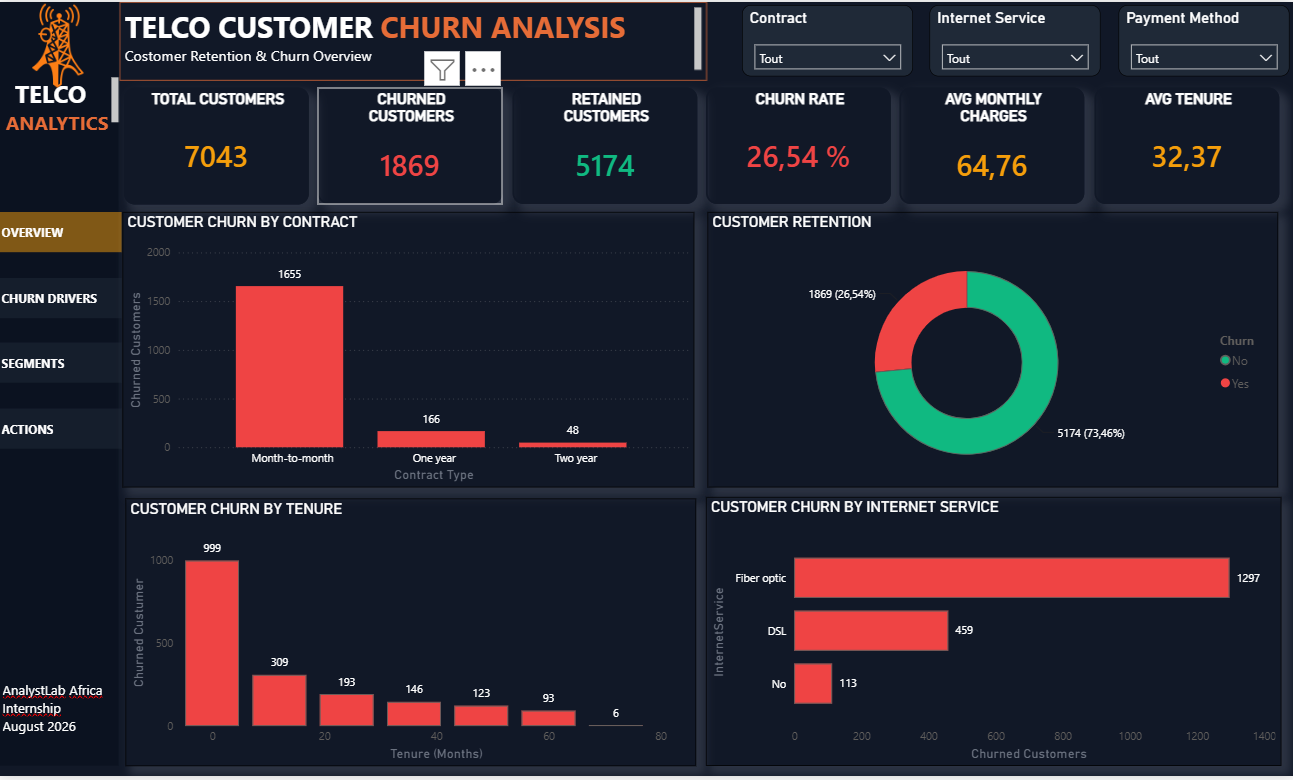

The page's visual inventory and layout, read from the dashboard file:
{"tool":"powerbi","page":{"name":" Overview","canvas":[1440,860],"ordinal":0},"visuals":[{"type":"shape","box":[0,0,134,848.6],"z":0},{"type":"textbox","box":[135.7,0,652.7,87.6],"z":1000},{"type":"cardVisual","title":"TOTAL CUSTOMERS","fields":{"Data":["WA_Fn-UseC_-Telco-Customer-Churn.Total Customers"]},"box":[139.7,95.4,205,130],"z":2000},{"type":"cardVisual","title":"CHURNED CUSTOMERS","fields":{"Data":["WA_Fn-UseC_-Telco-Customer-Churn.Churned Customers"]},"box":[355.3,95.4,205,129.5],"z":3000},{"type":"cardVisual","title":"RETAINED CUSTOMERS","fields":{"Data":["WA_Fn-UseC_-Telco-Customer-Churn.Retained Customers"]},"box":[571,95.4,205,129.5],"z":4000},{"type":"cardVisual","title":"CHURN RATE","fields":{"Data":["WA_Fn-UseC_-Telco-Customer-Churn.Churn Rate"]},"box":[786.7,95.4,205,129.5],"z":5000},{"type":"cardVisual","title":"AVG MONTHLY CHARGES","fields":{"Data":["WA_Fn-UseC_-Telco-Customer-Churn.AVG Monthly Charges"]},"box":[1002.3,95.4,205,129.5],"z":6000},{"type":"cardVisual","title":"AVG TENURE","fields":{"Data":["WA_Fn-UseC_-Telco-Customer-Churn.AVG Tenure"]},"box":[1218,95.4,205,129.5],"z":7000},{"type":"clusteredColumnChart","title":"CUSTOMER CHURN BY CONTRACT","fields":{"Category":["WA_Fn-UseC_-Telco-Customer-Churn.Contract"],"Y":["WA_Fn-UseC_-Telco-Customer-Churn.Churned Customers"]},"box":[139.1,233.6,635.6,305.8],"z":8000},{"type":"donutChart","title":"CUSTOMER RETENTION ","fields":{"Category":["WA_Fn-UseC_-Telco-Customer-Churn.Churn"],"Y":["WA_Fn-UseC_-Telco-Customer-Churn.Total Customers"]},"box":[788.4,233.6,633.8,305.8],"z":9000},{"type":"clusteredColumnChart","title":"CUSTOMER CHURN BY TENURE","fields":{"Category":["WA_Fn-UseC_-Telco-Customer-Churn.tenure (compartiments)"],"Y":["WA_Fn-UseC_-Telco-Customer-Churn.Churned Customers"]},"box":[140.9,551.4,633.8,297.2],"z":10000},{"type":"clusteredBarChart","title":"CUSTOMER CHURN BY INTERNET SERVICE","fields":{"Category":["WA_Fn-UseC_-Telco-Customer-Churn.InternetService"],"Y":["WA_Fn-UseC_-Telco-Customer-Churn.Churned Customers"]},"box":[786.7,549.7,639,298.9],"z":11000},{"type":"textbox","box":[0,79,139.1,80.7],"z":12000},{"type":"actionButton","title":"OVERVIEW","box":[0,233.6,137.4,44.7],"z":13000},{"type":"actionButton","title":"OVERVIEW","box":[0,306.3,137.4,44.7],"z":14000},{"type":"actionButton","title":"OVERVIEW","box":[0,379,137.4,44.7],"z":15000},{"type":"actionButton","title":"OVERVIEW","box":[0,451.8,137.4,44.7],"z":16000},{"type":"slicer","title":"Contract","fields":{"Values":["WA_Fn-UseC_-Telco-Customer-Churn.Contract"]},"box":[826.2,3.4,190,79],"z":17000},{"type":"slicer","title":"Internet Service","fields":{"Values":["WA_Fn-UseC_-Telco-Customer-Churn.InternetService"]},"box":[1035.8,3.4,190,79],"z":18000},{"type":"slicer","title":"Payment  Method","fields":{"Values":["WA_Fn-UseC_-Telco-Customer-Churn.PaymentMethod"]},"box":[1245.4,3.4,190,79],"z":19000},{"type":"image","box":[0,0,134,96.2],"z":20000},{"type":"textbox","box":[0,748.9,140.9,77.3],"z":20001}]}

Visuals, with their boxes in screenshot pixels (x1, y1, x2, y2), scaled from the page's 1440x860 canvas onto the 1293x780 screenshot:
shape: l=0, t=0, r=120, b=770
textbox: l=122, t=0, r=708, b=79
"TOTAL CUSTOMERS" cardVisual: l=125, t=87, r=310, b=204
"CHURNED CUSTOMERS" cardVisual: l=319, t=87, r=503, b=204
"RETAINED CUSTOMERS" cardVisual: l=513, t=87, r=697, b=204
"CHURN RATE" cardVisual: l=706, t=87, r=890, b=204
"AVG MONTHLY CHARGES" cardVisual: l=900, t=87, r=1084, b=204
"AVG TENURE" cardVisual: l=1094, t=87, r=1278, b=204
"CUSTOMER CHURN BY CONTRACT" clusteredColumnChart: l=125, t=212, r=696, b=489
"CUSTOMER RETENTION " donutChart: l=708, t=212, r=1277, b=489
"CUSTOMER CHURN BY TENURE" clusteredColumnChart: l=127, t=500, r=696, b=770
"CUSTOMER CHURN BY INTERNET SERVICE" clusteredBarChart: l=706, t=499, r=1280, b=770
textbox: l=0, t=72, r=125, b=145
"OVERVIEW" actionButton: l=0, t=212, r=123, b=252
"OVERVIEW" actionButton: l=0, t=278, r=123, b=318
"OVERVIEW" actionButton: l=0, t=344, r=123, b=384
"OVERVIEW" actionButton: l=0, t=410, r=123, b=450
"Contract" slicer: l=742, t=3, r=912, b=75
"Internet Service" slicer: l=930, t=3, r=1101, b=75
"Payment  Method" slicer: l=1118, t=3, r=1289, b=75
image: l=0, t=0, r=120, b=87
textbox: l=0, t=679, r=127, b=749
